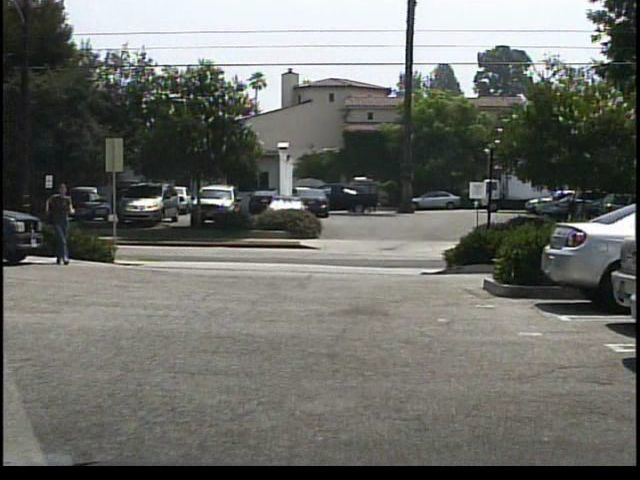person: (44, 180, 80, 267)
